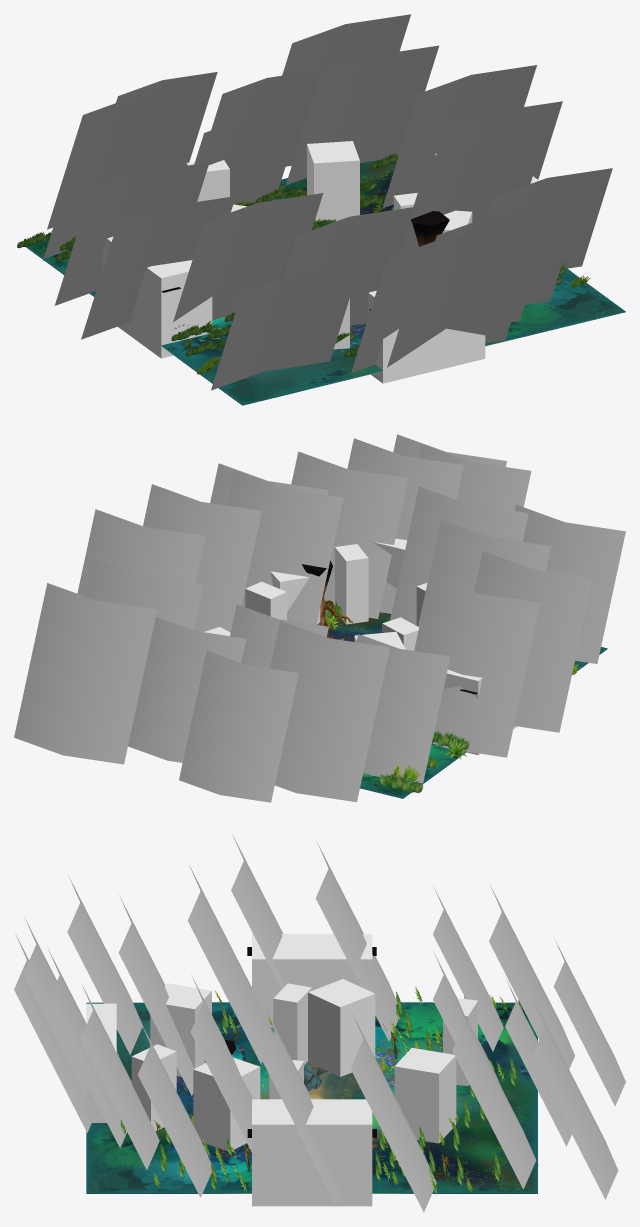
Rendered from FieldDungeon_02_001_Road_T_001.fbx.
3 renders of one model, top to bottom at view 1: azimuth 30°, elevation 25°; view 2: azimuth 150°, elevation 25°; view 3: azimuth 270°, elevation 25°, orthographic. The views are drawn at different scales.
Parts seen in each view (by area): view 1: FieldArea_02_001_tree_1, FieldArea_02_001_tree_2, FieldDungeon_02_001_Door_Back_001, FieldDungeon_02_001_Door_Right_001, FieldDungeon_02_001_Door_Left_001, DoorWay_NavMask (1) (×5), FieldArea_02_001_ground2, FieldArea_02_001_kusa, Cube_08, FieldDungeon_02_001_Door_Right_001_shadow, Cube_06, Dungeon_011_Object_010 (+1 smaller); view 2: FieldArea_02_001_tree_2, FieldArea_02_001_tree_1, FieldDungeon_02_001_Door_Right_001, FieldDungeon_02_001_Door_Left_001, FieldDungeon_02_001_Door_Back_001, Cube_03, FieldArea_02_001_kusa, FieldArea_02_001_ground2, DoorWay_NavMask (1) (×2), Cube_04, Cube_07, Cube_05; view 3: FieldArea_02_001_tree_1, DoorWay_NavMask (1) (×5), FieldArea_02_001_tree_2, FieldArea_02_001_ground2, FieldDungeon_02_001_Door_Left_001, FieldDungeon_02_001_Door_Back_001, FieldDungeon_02_001_Door_Right_001, Cube_02, Cube_08, FieldArea_02_001_kusa, Cube_07, FieldDungeon_02_001_Door_Left_001_shadow (+5 smaller).
Part boxes in pixels (left/top/right/bottom): FieldArea_02_001_tree_1: left=173, top=138, right=612, bottom=390; FieldArea_02_001_tree_2: left=43, top=14, right=438, bottom=260; FieldDungeon_02_001_Door_Back_001: left=351, top=206, right=555, bottom=372; FieldDungeon_02_001_Door_Right_001: left=54, top=162, right=235, bottom=339; FieldDungeon_02_001_Door_Left_001: left=382, top=65, right=562, bottom=207; DoorWay_NavMask (1) (×5): left=102, top=236, right=485, bottom=383; FieldArea_02_001_ground2: left=27, top=160, right=625, bottom=404; FieldArea_02_001_kusa: left=17, top=153, right=590, bottom=374; Cube_08: left=307, top=141, right=359, bottom=222; FieldDungeon_02_001_Door_Right_001_shadow: left=90, top=291, right=232, bottom=377; Cube_06: left=186, top=160, right=229, bottom=201; Dungeon_011_Object_010: left=411, top=211, right=449, bottom=246; FieldArea_02_001_tree_2: left=14, top=559, right=450, bottom=802; FieldArea_02_001_tree_1: left=210, top=451, right=625, bottom=663; FieldDungeon_02_001_Door_Right_001: left=414, top=551, right=592, bottom=757; FieldDungeon_02_001_Door_Left_001: left=77, top=484, right=261, bottom=632; FieldDungeon_02_001_Door_Back_001: left=347, top=434, right=531, bottom=613; Cube_03: left=335, top=544, right=368, bottom=624; FieldArea_02_001_kusa: left=324, top=598, right=580, bottom=793; FieldArea_02_001_ground2: left=325, top=615, right=607, bottom=798; DoorWay_NavMask (1) (×2): left=372, top=538, right=517, bottom=754; Cube_04: left=245, top=581, right=286, bottom=620; Cube_07: left=270, top=571, right=320, bottom=624; Cube_05: left=382, top=617, right=418, bottom=650; FieldArea_02_001_tree_1: left=67, top=865, right=273, bottom=1197; DoorWay_NavMask (1) (×5): left=86, top=934, right=372, bottom=1206; FieldArea_02_001_tree_2: left=433, top=885, right=625, bottom=1199; FieldArea_02_001_ground2: left=86, top=1002, right=537, bottom=1193; FieldDungeon_02_001_Door_Left_001: left=262, top=1004, right=436, bottom=1212; FieldDungeon_02_001_Door_Back_001: left=14, top=917, right=126, bottom=1148; FieldDungeon_02_001_Door_Right_001: left=231, top=834, right=400, bottom=1041; Cube_02: left=308, top=979, right=375, bottom=1076; Cube_08: left=394, top=1048, right=456, bottom=1143; FieldArea_02_001_kusa: left=116, top=986, right=523, bottom=1196; Cube_07: left=193, top=1057, right=260, bottom=1150; FieldDungeon_02_001_Door_Left_001_shadow: left=197, top=1143, right=440, bottom=1192.
Size of what is drawn, in the model's own units: 18.73 by 5.86 by 20.33.
